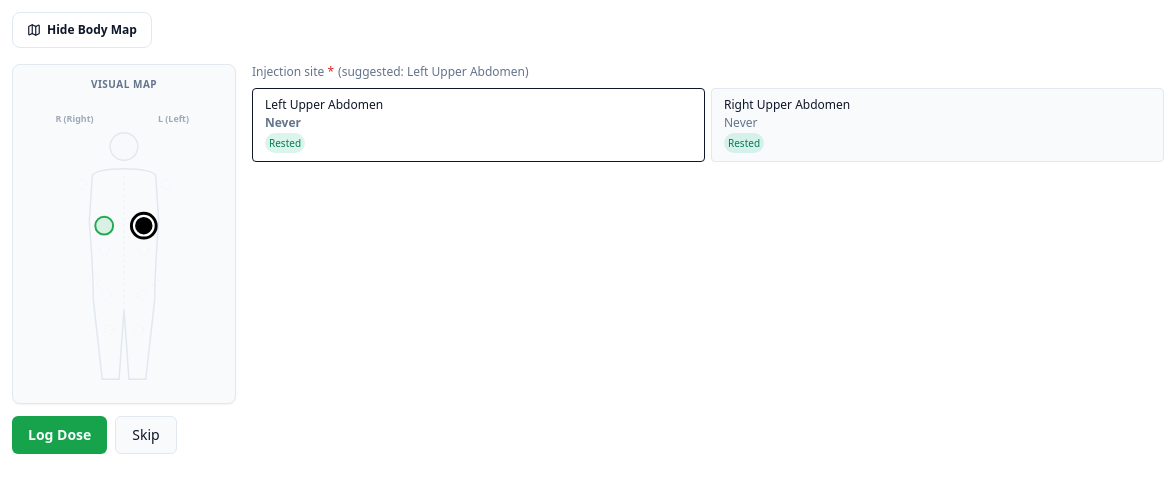
it: DoseLogActions Component UI/UX with JSDOM › Offline Intercept Fallback Checks › does not enqueue offline when an application error is returned from the server
Click the button "Log Dose".
click(60, 435)  # box [12,416,107,454]
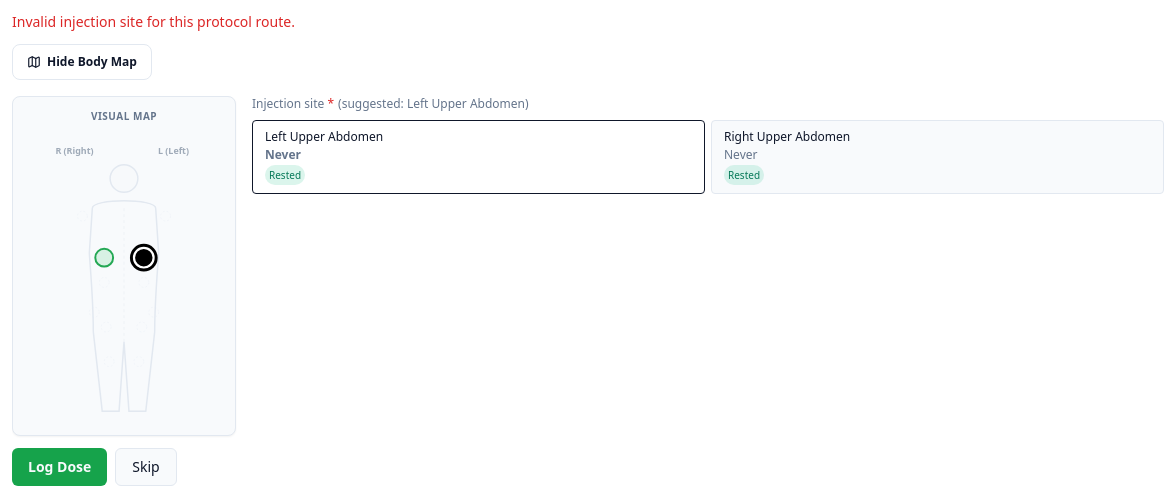
Now the text "Invalid injection site for this protocol route." is shown, box [12,12,295,31]
